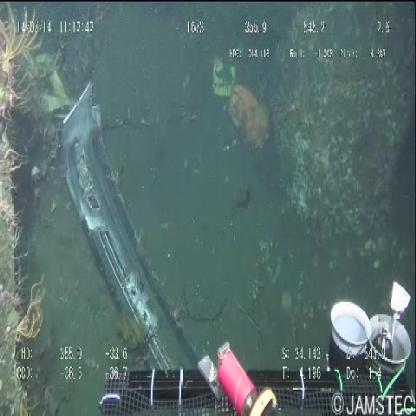Rov: (86, 274, 416, 411)
Rác: (53, 94, 199, 362)
